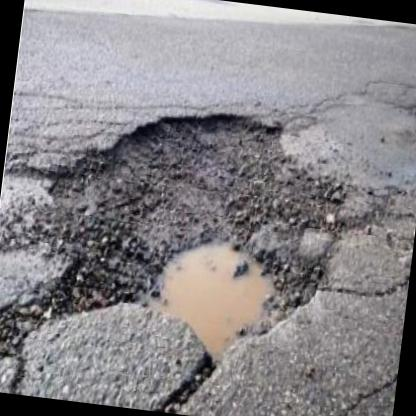pothole: (21, 84, 360, 382)
